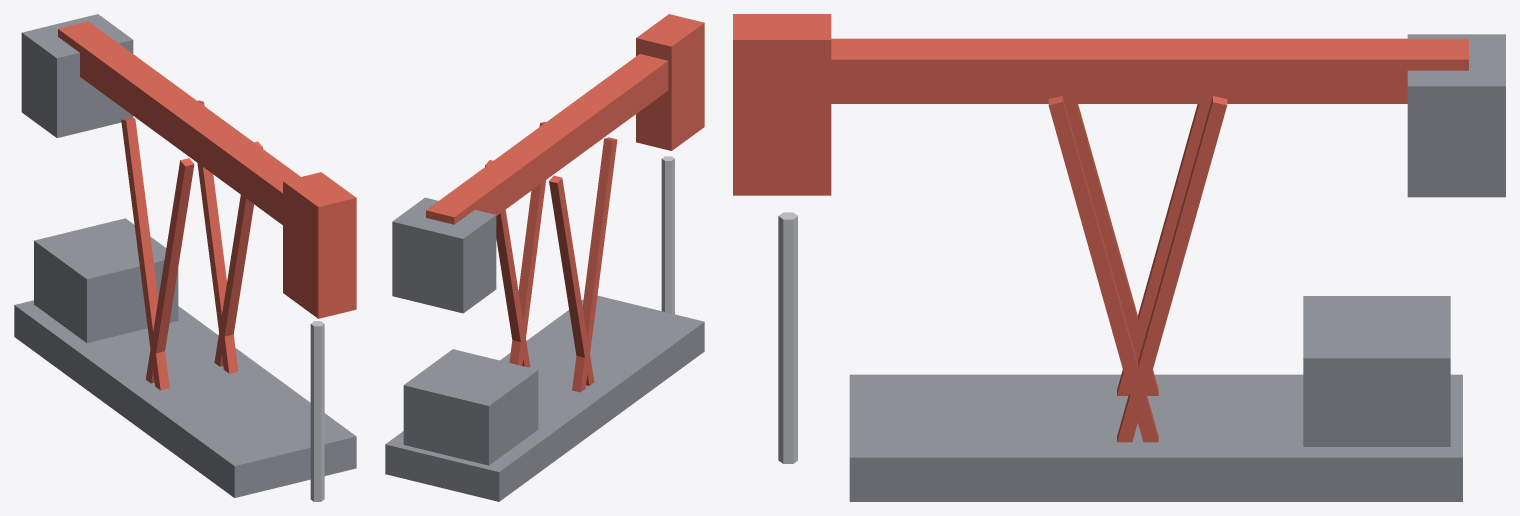
Rendered from pumpjack.glb.
3 views of the same model, side by side, from view 1: azimuth 30°, elevation 25°; view 2: azimuth 150°, elevation 25°; view 3: azimuth 270°, elevation 25° (orthographic). The views are drawn at different scales.
Parts seen in each view (by area): view 1: pumpjack, beam; view 2: pumpjack, beam; view 3: pumpjack, beam.
Boxes of the visible parts, x1,y1,x2,y2 form: pumpjack: (14, 100, 356, 501); beam: (21, 14, 356, 318); pumpjack: (385, 121, 704, 501); beam: (392, 14, 704, 313); pumpjack: (778, 96, 1462, 501); beam: (733, 14, 1505, 197).
Bounding box in the file's own units: 1.6 × 3.9 × 6.3.
